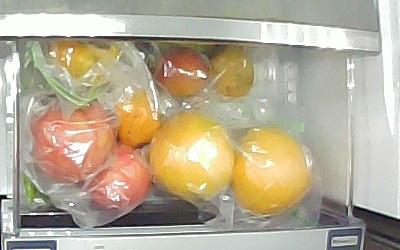apple_vinyl: (30, 96, 113, 184), (85, 147, 152, 213)
grapefruit_vinyl: (147, 110, 232, 202), (232, 128, 311, 215)
persimmon_vinyl: (51, 37, 124, 86), (113, 93, 159, 148)
prune_vinyl: (154, 45, 211, 98), (210, 46, 255, 98)
